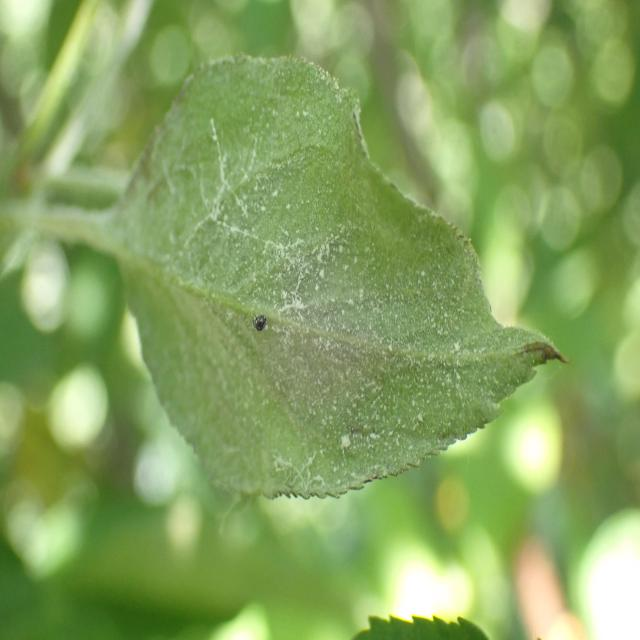Powdery_mildew: (120, 24, 565, 519)
